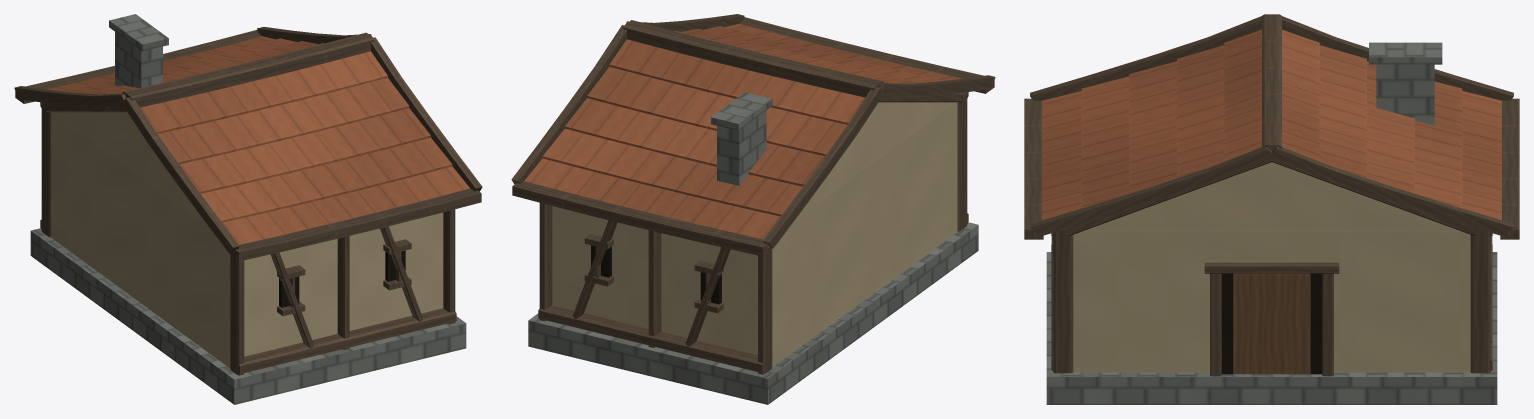
The model's file is timber-house.glb.
3 views of the same model, side by side, from view 1: azimuth 30°, elevation 25°; view 2: azimuth 150°, elevation 25°; view 3: azimuth 270°, elevation 25° (orthographic). The views are drawn at different scales.
Visible parts, largest first — view 1: timber-house; view 2: timber-house; view 3: timber-house.
Boxes of the visible parts, x1,y1,x2,y2 form: timber-house: (14,14,482,404); timber-house: (511,14,995,404); timber-house: (1024,14,1519,404).
Bounding box in the file's own units: 0.5852 × 0.539 × 0.9091.
Materials: 1 (1 with a texture image).
